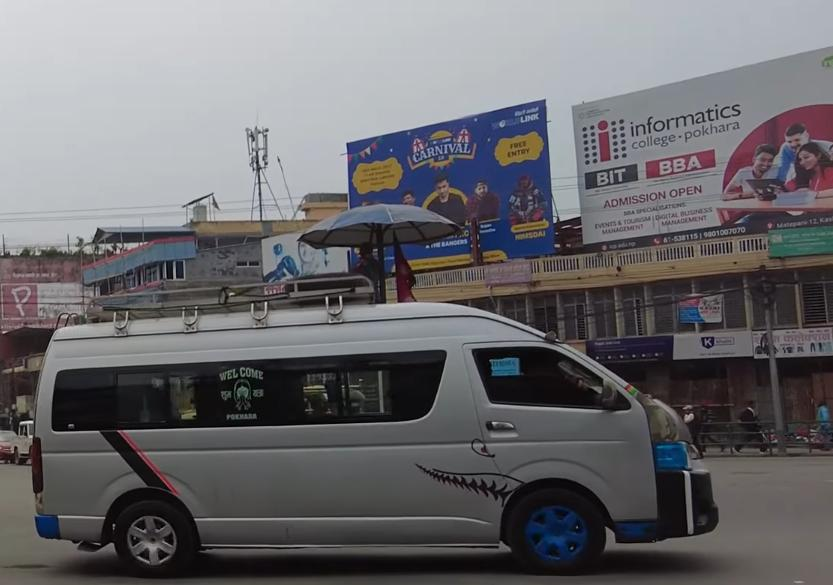micro_bus: (13, 270, 720, 572)
